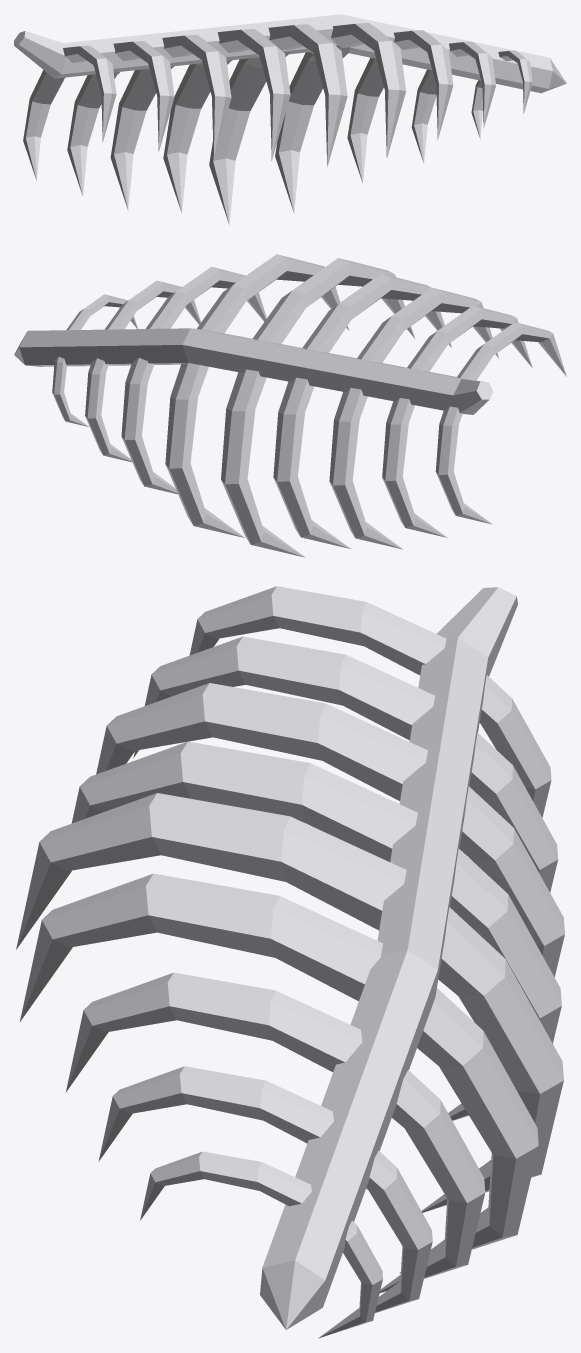
The model's file is Asset_BlockDesert_Skeleton_01.fbx.
3 views of the same model, one above another, from view 1: azimuth 30°, elevation 25°; view 2: azimuth 150°, elevation 25°; view 3: azimuth 270°, elevation 25° (orthographic). The views are drawn at different scales.
Parts seen in each view (by area): view 1: PolySurface_skeleton; view 2: PolySurface_skeleton; view 3: PolySurface_skeleton.
Boxes of the visible parts, box(x1,y1,x2,y2) form: PolySurface_skeleton: box(14, 14, 566, 225); PolySurface_skeleton: box(14, 254, 566, 557); PolySurface_skeleton: box(16, 586, 564, 1338).
Size of the model in its own units: 192 by 85.52 by 91.42.
